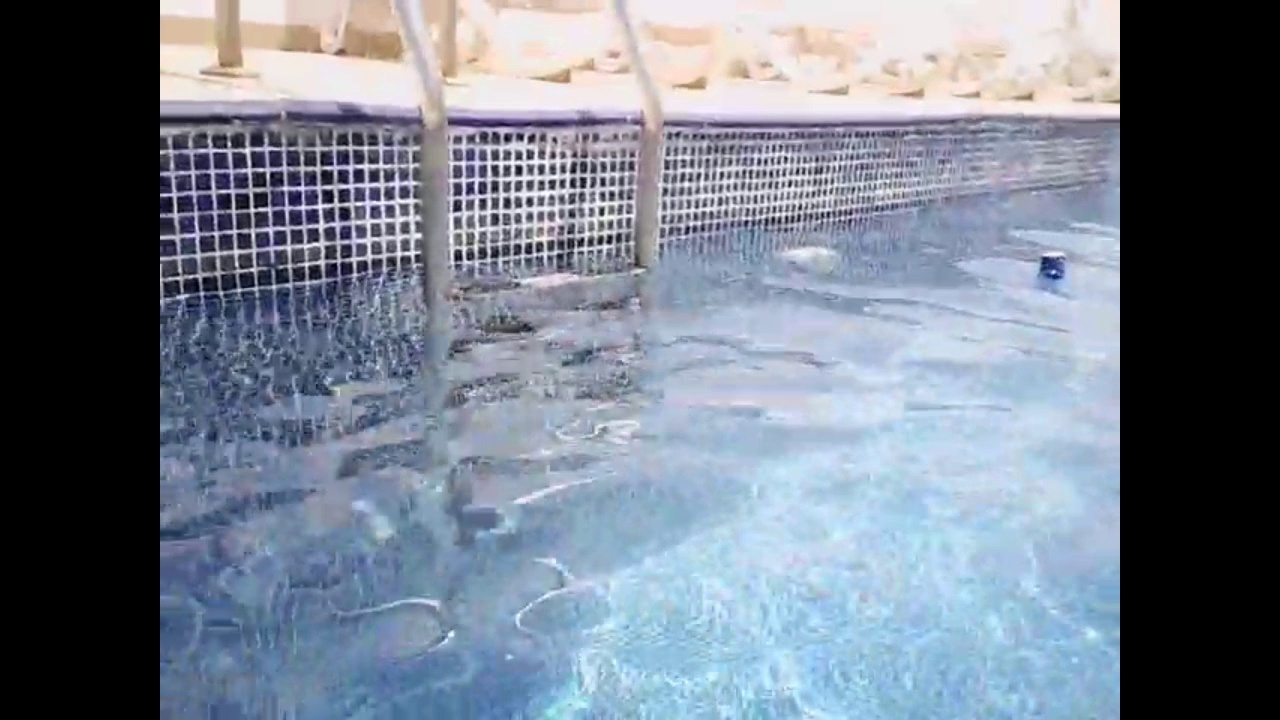debris: (1030, 245, 1070, 290)
